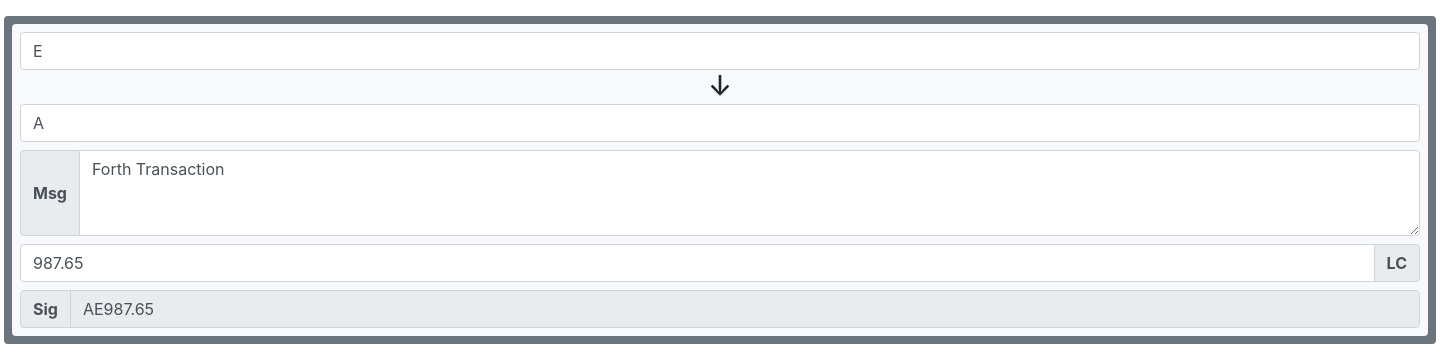
Test case: middle block › change of Amount input causes propagation
Type "1" into the number field named "Block Transactions Amount" at point(697, 263), box [20,244,1375,282]
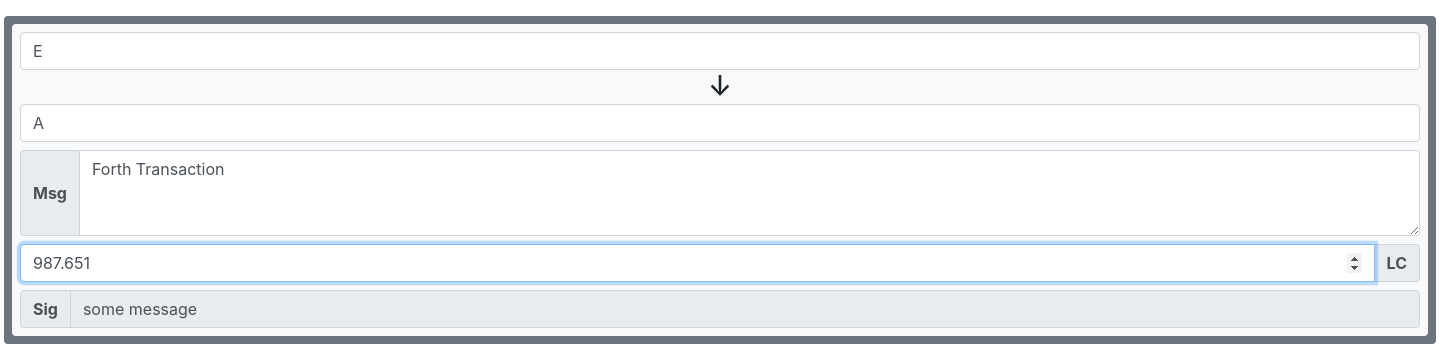
Check: the field named "Block Transactions Signature" holds "some message", box [70,290,1420,328]
